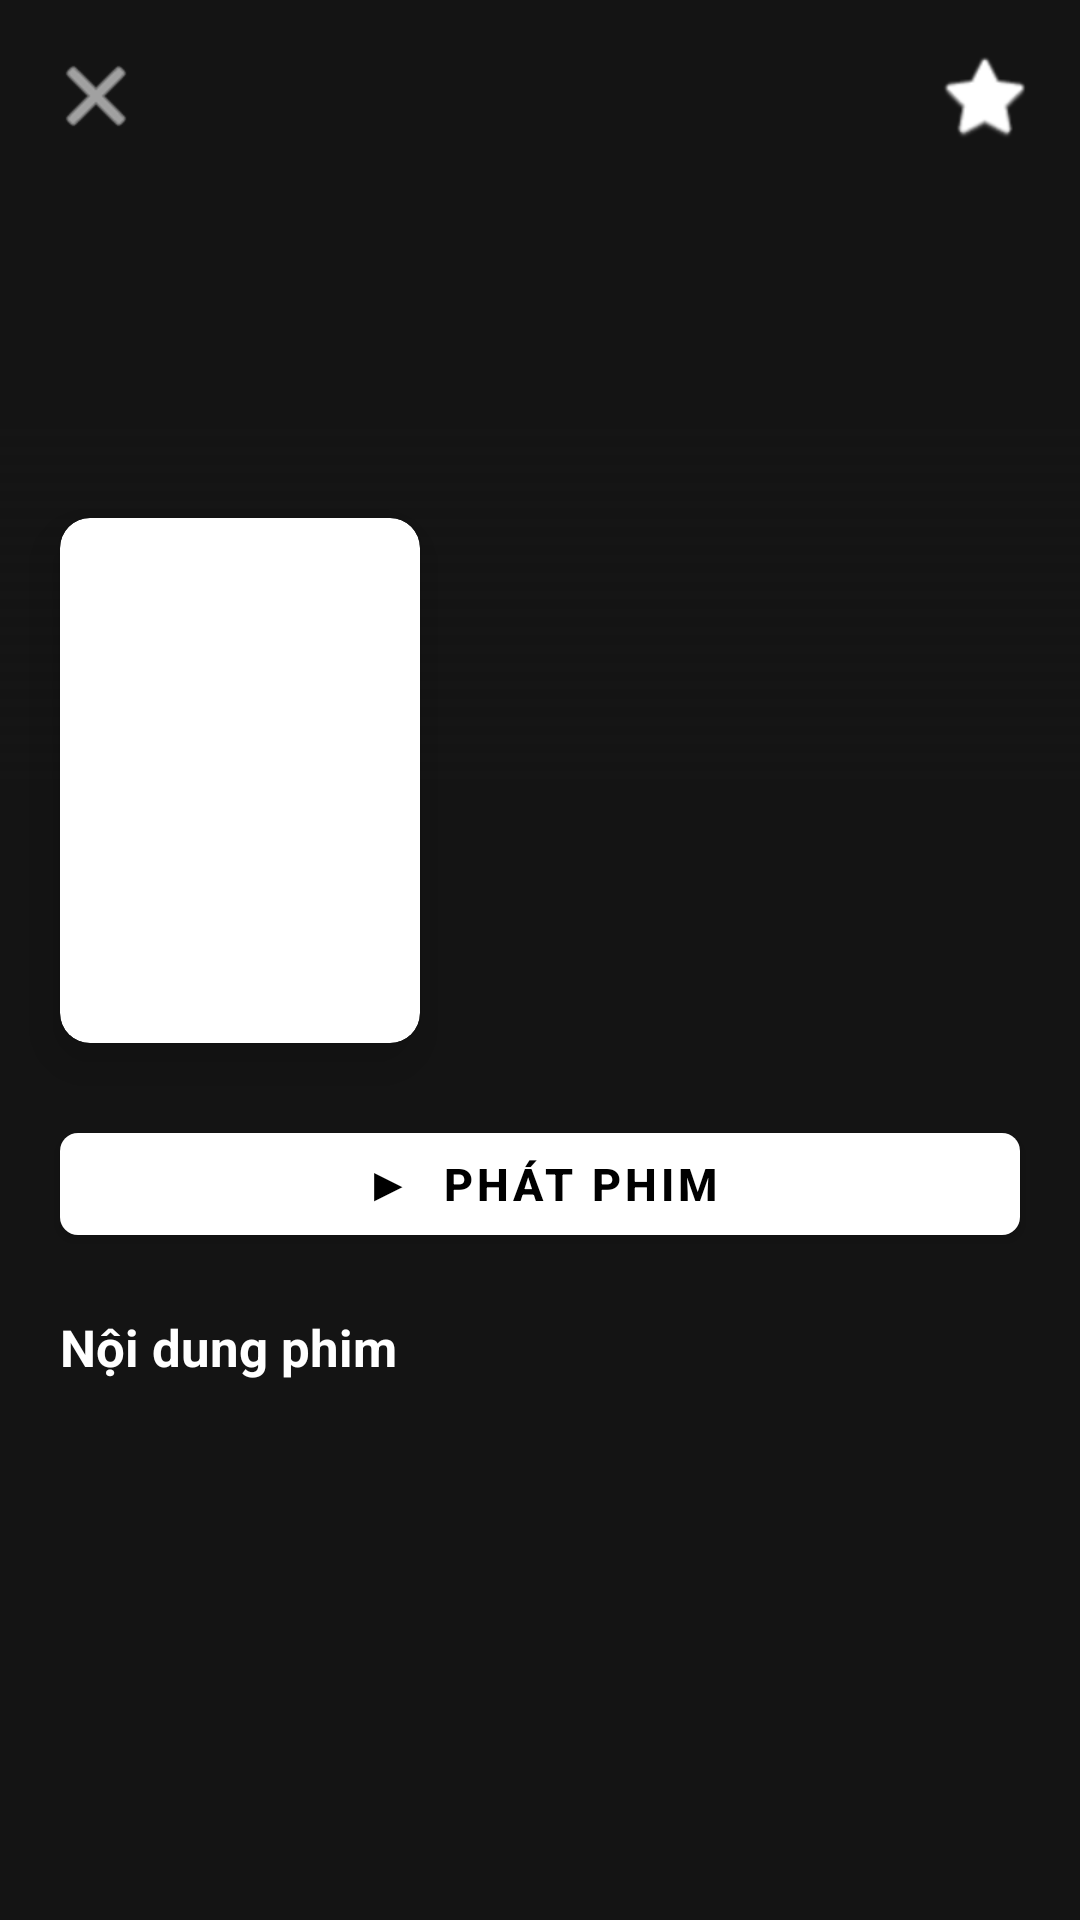

Icons on this 1080 × 1920 Android screen, each with the point to tap as (x,y):
Yêu thích: (985,97)
